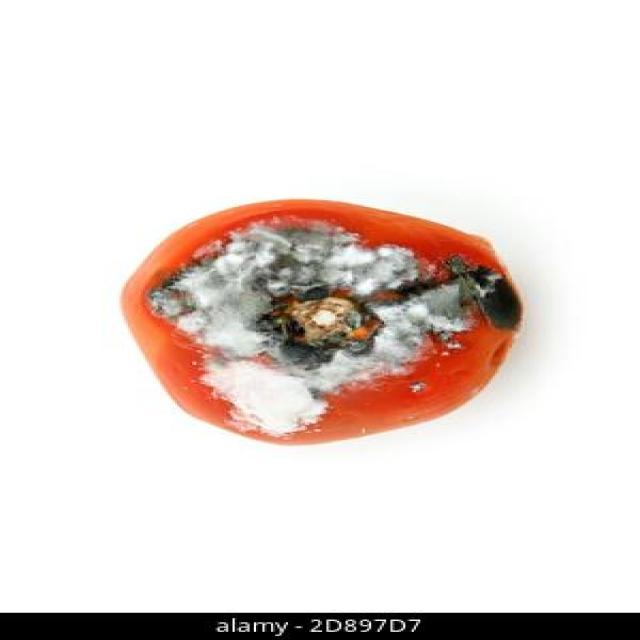Rotten: (113, 198, 526, 448)
